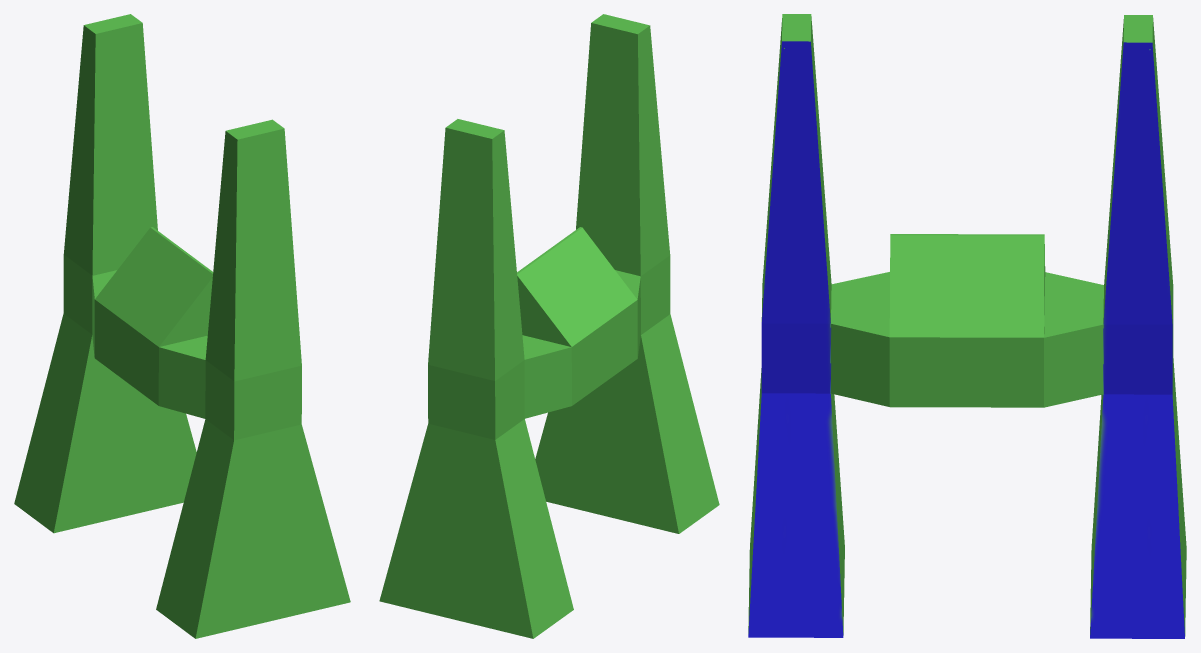
File: GreenShip31.fbx
The picture shows the model from 3 angles, left to right: view 1: azimuth 30°, elevation 25°; view 2: azimuth 150°, elevation 25°; view 3: azimuth 270°, elevation 25°; orthographic projection. The views are drawn at different scales.
Visible parts, largest first — view 1: Cube; view 2: Cube; view 3: Cube.
Boxes of the visible parts, <box> form: Cube: <box>14,14,350,638</box>; Cube: <box>379,14,719,638</box>; Cube: <box>748,14,1186,638</box>.
Size of the model in its own units: 279 by 809 by 568.
1 material, 1 textured.
